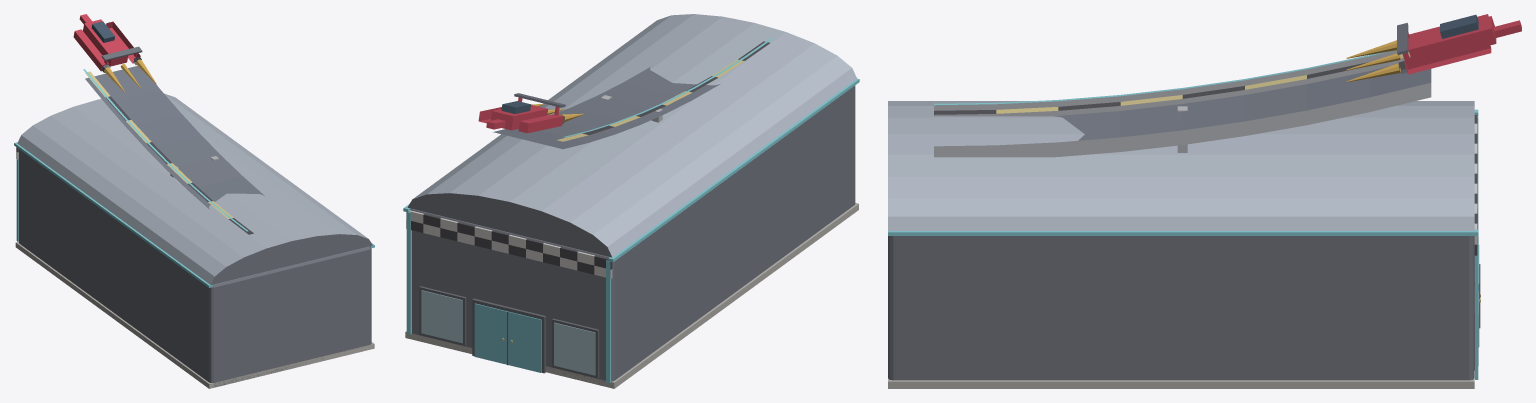
File: centro-corrida-09256b0b.glb
The picture shows the model from 3 angles, left to right: view 1: azimuth 30°, elevation 25°; view 2: azimuth 150°, elevation 25°; view 3: azimuth 270°, elevation 25°; orthographic projection. The views are drawn at different scales.
Size of the model in its own units: 10.74 by 12.63 by 23.45.
